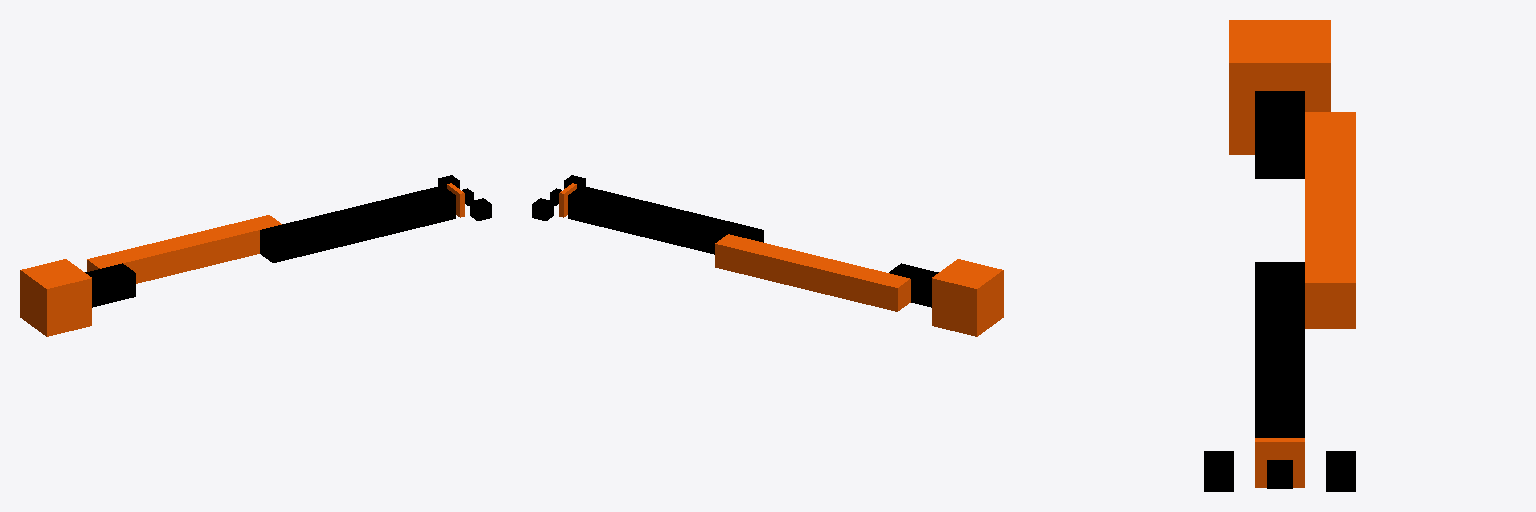
The robot description file, URDF, robot "my_robo":
<?xml version="1.0" ?>
<!-- =================================================================================== -->
<!-- |    This document was autogenerated by xacro from my_robo.xacro                  | -->
<!-- |    EDITING THIS FILE BY HAND IS NOT RECOMMENDED                                 | -->
<!-- =================================================================================== -->
<robot name="my_robo" xmlns:xacro="http://www.ros.org/wiki/xacro">
  <gazebo>
    <plugin filename="libgazebo_ros_control.so" name="gazebo_ros_control">
      <!--<robotNamespace>/my_robo</robotNamespace>
      -->
      <robotSimType>gazebo_ros_control/DefaultRobotHWSim</robotSimType>
    </plugin>
  </gazebo>
  <!-- Link1 -->
  <gazebo reference="link1">
    <mu1>0.2</mu1>
    <mu2>0.2</mu2>
    <material>Gazebo/Orange</material>
  </gazebo>
  <!-- Link2 -->
  <gazebo reference="link2">
    <mu1>0.2</mu1>
    <mu2>0.2</mu2>
    <material>Gazebo/Black</material>
  </gazebo>
  <!-- Link3 -->
  <gazebo reference="link3">
    <mu1>0.2</mu1>
    <mu2>0.2</mu2>
    <material>Gazebo/Orange</material>
  </gazebo>
  <!-- Link4 -->
  <gazebo reference="link4">
    <mu1>0.2</mu1>
    <mu2>0.2</mu2>
    <material>Gazebo/Black</material>
  </gazebo>
  <!-- Link5 -->
  <gazebo reference="link5">
    <mu1>0.2</mu1>
    <mu2>0.2</mu2>
    <material>Gazebo/Orange</material>
  </gazebo>
  <!-- Link6 -->
  <gazebo reference="link6">
    <mu1>0.2</mu1>
    <mu2>0.2</mu2>
    <material>Gazebo/Black</material>
  </gazebo>
  <gazebo reference="link_cam1">
    <material>gazebo/Black</material>
    <sensor name="camera1" type="camera">
      <update_rate>30.0</update_rate>
      <camera name="head1">
        <horizontal_fov>1.5708</horizontal_fov>
        <image>
          <width>800</width>
          <height>800</height>
          <format>R8G8B8</format>
        </image>
        <clip>
          <near>0.02</near>
          <far>300</far>
        </clip>
      </camera>
      <plugin filename="libgazebo_ros_camera.so" name="camera_camera_controller">
        <alwaysOn>true</alwaysOn>
        <updateRate>0.0</updateRate>
        <cameraName>my_robo/camera1</cameraName>
        <imageTopicName>image_raw</imageTopicName>
        <cameraInfoTopicName>camera_info</cameraInfoTopicName>
        <frameName>link_cam1</frameName>
        <hackBaseline>0.07</hackBaseline>
        <distortionK1>0.0</distortionK1>
        <distortionK2>0.0</distortionK2>
        <distortionK3>0.0</distortionK3>
        <distortionT1>0.0</distortionT1>
        <distortionT2>0.0</distortionT2>
      </plugin>
    </sensor>
  </gazebo>
  <gazebo reference="link_cam2">
    <material>gazebo/Red</material>
    <sensor name="camera2" type="camera">
      <update_rate>30.0</update_rate>
      <camera name="head2">
        <horizontal_fov>1.5708</horizontal_fov>
        <image>
          <width>800</width>
          <height>800</height>
          <format>R8G8B8</format>
        </image>
        <clip>
          <near>0.02</near>
          <far>300</far>
        </clip>
      </camera>
      <plugin filename="libgazebo_ros_camera.so" name="camera_camera_controller">
        <alwaysOn>true</alwaysOn>
        <updateRate>0.0</updateRate>
        <cameraName>my_robo/camera2</cameraName>
        <imageTopicName>image_raw</imageTopicName>
        <cameraInfoTopicName>camera_info</cameraInfoTopicName>
        <frameName>link_cam2</frameName>
        <hackBaseline>0.07</hackBaseline>
        <distortionK1>0.0</distortionK1>
        <distortionK2>0.0</distortionK2>
        <distortionK3>0.0</distortionK3>
        <distortionT1>0.0</distortionT1>
        <distortionT2>0.0</distortionT2>
      </plugin>
    </sensor>
  </gazebo>
   i
  
  <material name="black">
    <color rgba="0.0 0.0 0.0 1.0"/>
  </material>
  <material name="blue">
    <color rgba="0.0 0.0 0.8 1.0"/>
  </material>
  <material name="green">
    <color rgba="0.0 0.8 0.0 1.0"/>
  </material>
  <material name="grey">
    <color rgba="0.2 0.2 0.2 1.0"/>
  </material>
  <material name="orange">
    <color rgba="1.0 0.423529411765 0.0392156862745 1.0"/>
  </material>
  <material name="brown">
    <color rgba="0.870588235294 0.811764705882 0.764705882353 1.0"/>
  </material>
  <material name="red">
    <color rgba="0.8 0.0 0.0 1.0"/>
  </material>
  <material name="white">
    <color rgba="1.0 1.0 1.0 1.0"/>
  </material>
  <link name="world"/>
  <joint name="fixed" type="fixed">
    <origin rpy="0 0 0" xyz="0 0 1.7"/>
    <parent link="world"/>
    <child link="link1"/>
  </joint>
  <link name="link1">
    <collision>
      <origin rpy="0 0 0" xyz="0.05 0 0"/>
      <geometry>
        <box size="0.05 0.025 0.025"/>
      </geometry>
    </collision>
    <visual>
      <origin rpy="0 0 0" xyz="0.05 0 0"/>
      <geometry>
        <box size="0.1 0.1 0.1"/>
      </geometry>
      <material name="orange"/>
    </visual>
    <inertial>
      <origin rpy="0 0 0" xyz="0.05 0 0"/>
      <mass value="3.0"/>
      <inertia ixx="0.003125" ixy="0.0" ixz="0.0" iyy="0.00125" iyz="0.0" izz="0.003125"/>
    </inertial>
  </link>
  <joint name="joint1" type="continuous">
    <origin rpy="0 0 0" xyz="0.11 0 0"/>
    <parent link="link1"/>
    <child link="link2"/>
    <axis xyz="1 0 0"/>
    <dynamics damping="0.7"/>
  </joint>
  <link name="link2">
    <collision>
      <origin rpy="0 0 0" xyz="0.05 0 0"/>
      <geometry>
        <box size="0.05 0.05 0.05"/>
      </geometry>
    </collision>
    <visual>
      <origin rpy="0 0 0" xyz="0.05 0 0"/>
      <geometry>
        <box size="0.1 0.05 0.05"/>
      </geometry>
      <material name="black"/>
    </visual>
    <inertial>
      <origin rpy="0 0 0" xyz="0.05 0 0"/>
      <mass value="3.0"/>
      <inertia ixx="0.003125" ixy="0.0" ixz="0.0" iyy="0.00125" iyz="0.0" izz="0.003125"/>
    </inertial>
  </link>
  <joint name="joint2" type="continuous">
    <origin rpy="0 0 0" xyz="0.05 0.05 0"/>
    <parent link="link2"/>
    <child link="link3"/>
    <axis xyz="0 1 0"/>
    <dynamics damping="0.7"/>
  </joint>
  <link name="link3">
    <collision>
      <origin rpy="0 0 0" xyz="0.2 0 0"/>
      <geometry>
        <box size="0.2 0.05 0.05"/>
      </geometry>
    </collision>
    <visual>
      <origin rpy="0 0 0" xyz="0.2 0 0"/>
      <geometry>
        <box size="0.4 0.05 0.05"/>
      </geometry>
      <material name="orange"/>
    </visual>
    <inertial>
      <origin rpy="0 0 0" xyz="0.2 0 0"/>
      <mass value="3.0"/>
      <inertia ixx="0.040625" ixy="0.0" ixz="0.0" iyy="0.00125" iyz="0.0" izz="0.040625"/>
    </inertial>
  </link>
  <joint name="joint3" type="continuous">
    <origin rpy="0 0 0" xyz="0.35 -0.05 0"/>
    <parent link="link3"/>
    <child link="link4"/>
    <axis xyz="0 1 0"/>
    <dynamics damping="0.7"/>
  </joint>
  <link name="link4">
    <collision>
      <origin rpy="0 0 0" xyz="0.2 0 0"/>
      <geometry>
        <box size="0.2 0.05 0.05"/>
      </geometry>
    </collision>
    <visual>
      <origin rpy="0 0 0" xyz="0.2 0 0"/>
      <geometry>
        <box size="0.4 0.05 0.05"/>
      </geometry>
      <material name="black"/>
    </visual>
    <inertial>
      <origin rpy="0 0 0" xyz="0.2 0 0"/>
      <mass value="3.0"/>
      <inertia ixx="0.040625" ixy="0.0" ixz="0.0" iyy="0.00125" iyz="0.0" izz="0.040625"/>
    </inertial>
  </link>
  <joint name="joint4" type="continuous">
    <origin rpy="0 0 0" xyz="0.41 0 0"/>
    <parent link="link4"/>
    <child link="link5"/>
    <axis xyz="1 0 0"/>
    <dynamics damping="0.7"/>
  </joint>
  <link name="link5">
    <collision>
      <origin rpy="0 0 0" xyz="0.005 0 0"/>
      <geometry>
        <box size="0.005 0.05 0.05"/>
      </geometry>
    </collision>
    <visual>
      <origin rpy="0 0 0" xyz="0.005 0 0"/>
      <geometry>
        <box size="0.01 0.05 0.05"/>
      </geometry>
      <material name="orange"/>
    </visual>
    <inertial>
      <origin rpy="0 0 0" xyz="0.005 0 0"/>
      <mass value="3.0"/>
      <inertia ixx="0.00065" ixy="0.0" ixz="0.0" iyy="0.00125" iyz="0.0" izz="0.00065"/>
    </inertial>
  </link>
  <joint name="joint5" type="fixed">
    <origin rpy="0 0 0" xyz="0.02 0 0"/>
    <parent link="link5"/>
    <child link="link6"/>
  </joint>
  <link name="link6">
    <collision>
      <origin rpy="0 0 0" xyz="0.0125 0 0"/>
      <geometry>
        <box size="0.0125 0.025 0.025"/>
      </geometry>
    </collision>
    <visual>
      <origin rpy="0 0 0" xyz="0.0125 0 0"/>
      <geometry>
        <box size="0.0125 0.025 0.025"/>
      </geometry>
      <material name="black"/>
    </visual>
    <inertial>
      <origin rpy="0 0 0" xyz="0.0125 0 0"/>
      <mass value="3.0"/>
      <inertia ixx="0.00078125" ixy="0.0" ixz="0.0" iyy="0.00125" iyz="0.0" izz="0.00078125"/>
    </inertial>
  </link>
  <joint name="cam_joint1" type="fixed">
    <origin xyz="0.025 0.03 0"/>
    <parent link="link5"/>
    <child link="link_cam1"/>
  </joint>
  <link name="link_cam1">
    <collision>
      <origin xyz="0 0.03 0"/>
      <geometry>
        <box size="0.03 0.03 0.03"/>
      </geometry>
    </collision>
    <visual>
      <origin rpy="0 0 0" xyz="0 0.03 0"/>
      <geometry>
        <box size="0.03 0.03 0.03"/>
      </geometry>
      <material name="black"/>
    </visual>
    <inertial>
      <mass value="0.001"/>
      <origin rpy="0 0 0" xyz="0 0.03 0"/>
      <inertia ixx="0.0001" ixy="0" ixz="0" iyy="0.0001" iyz="0" izz="0.0001"/>
    </inertial>
  </link>
  <joint name="cam_joint2" type="fixed">
    <origin xyz="0.025 -0.03 0"/>
    <parent link="link5"/>
    <child link="link_cam2"/>
  </joint>
  <link name="link_cam2">
    <collision>
      <origin xyz="0 -0.03 0"/>
      <geometry>
        <box size="0.03 0.03 0.03"/>
      </geometry>
    </collision>
    <visual>
      <origin rpy="0 0 0" xyz="0 -0.03 0"/>
      <geometry>
        <box size="0.03 0.03 0.03"/>
      </geometry>
      <material name="black"/>
    </visual>
    <inertial>
      <mass value="0.001"/>
      <origin rpy="0 0 0" xyz="0 -0.03 0"/>
      <inertia ixx="0.0001" ixy="0" ixz="0" iyy="0.0001" iyz="0" izz="0.0001"/>
    </inertial>
  </link>
  <!--
  <transmission name="tran1">
    <type>transmission_interface/SimpleTransmission</type>
    <joint name="joint1">
      <hardwareInterface>hardware_interface/PositionJointInterface</hardwareInterface>
    </joint>
    <actuator name="motor1">
      <hardwareInterface>hardware_interface/PositionJointInterface</hardwareInterface>
      <mechanicalReduction>1</mechanicalReduction>
    </actuator>
  </transmission>
 
  <transmission name="tran2">
    <type>transmission_interface/SimpleTransmission</type>
    <joint name="joint2">
      <hardwareInterface>hardware_interface/PositionJointInterface</hardwareInterface>
    </joint>
    <actuator name="motor2">
      <hardwareInterface>hardware_interface/PositionJointInterface</hardwareInterface>
      <mechanicalReduction>1</mechanicalReduction>
    </actuator>
  </transmission>

  <transmission name="tran3">
    <type>transmission_interface/SimpleTransmission</type>
    <joint name="joint3">
      <hardwareInterface>hardware_interface/PositionJointInterface</hardwareInterface>
    </joint>
    <actuator name="motor3">
      <hardwareInterface>hardware_interface/PositionJointInterface</hardwareInterface>
      <mechanicalReduction>1</mechanicalReduction>
    </actuator>
  </transmission>

  <transmission name="tran4">
    <type>transmission_interface/SimpleTransmission</type>
    <joint name="joint4">
      <hardwareInterface>hardware_interface/PositionJointInterface</hardwareInterface>
    </joint>
    <actuator name="motor4">
      <hardwareInterface>hardware_interface/PositionJointInterface</hardwareInterface>
      <mechanicalReduction>1</mechanicalReduction>
    </actuator>
  </transmission>
-->
  <transmission name="tran1">
    <type>transmission_interface/SimpleTransmission</type>
    <joint name="joint1">
      <hardwareInterface>hardware_interface/VelocityJointInterface</hardwareInterface>
    </joint>
    <actuator name="motor1">
      <hardwareInterface>hardware_interface/VelocityJointInterface</hardwareInterface>
      <mechanicalReduction>1</mechanicalReduction>
    </actuator>
  </transmission>
  <transmission name="tran2">
    <type>transmission_interface/SimpleTransmission</type>
    <joint name="joint2">
      <hardwareInterface>hardware_interface/VelocityJointInterface</hardwareInterface>
    </joint>
    <actuator name="motor2">
      <hardwareInterface>hardware_interface/VelocityJointInterface</hardwareInterface>
      <mechanicalReduction>1</mechanicalReduction>
    </actuator>
  </transmission>
  <transmission name="tran3">
    <type>transmission_interface/SimpleTransmission</type>
    <joint name="joint3">
      <hardwareInterface>hardware_interface/VelocityJointInterface</hardwareInterface>
    </joint>
    <actuator name="motor3">
      <hardwareInterface>hardware_interface/VelocityJointInterface</hardwareInterface>
      <mechanicalReduction>1</mechanicalReduction>
    </actuator>
  </transmission>
  <transmission name="tran4">
    <type>transmission_interface/SimpleTransmission</type>
    <joint name="joint4">
      <hardwareInterface>hardware_interface/VelocityJointInterface</hardwareInterface>
    </joint>
    <actuator name="motor4">
      <hardwareInterface>hardware_interface/VelocityJointInterface</hardwareInterface>
      <mechanicalReduction>1</mechanicalReduction>
    </actuator>
  </transmission>
</robot>

--- Render facts (derived) ---
Views: 3 orthographic renders of the robot side by side, from view 1: azimuth 30°, elevation 25°; view 2: azimuth 150°, elevation 25°; view 3: azimuth 270°, elevation 25°.
Robot: my_robo — 9 links, 8 joints (4 continuous, 4 fixed); root link world; default pose: every joint at zero.
Visible links, largest first — view 1: link4, link3, link1, link2; view 2: link3, link4, link1, link2; view 3: link3, link1, link4, link2, link5, link_cam1, link_cam2, link6.
Boxes of the visible links, x1,y1,x2,y2 form: link4: (260, 186, 455, 262); link3: (87, 215, 281, 283); link1: (20, 259, 91, 336); link2: (85, 263, 135, 307); link3: (715, 234, 910, 311); link4: (568, 186, 763, 254); link1: (932, 259, 1003, 336); link2: (889, 263, 938, 307); link3: (1305, 112, 1355, 328); link1: (1229, 20, 1330, 154); link4: (1255, 262, 1304, 437); link2: (1255, 91, 1304, 178); link5: (1255, 438, 1304, 487); link_cam1: (1326, 451, 1355, 491); link_cam2: (1204, 451, 1233, 491); link6: (1267, 460, 1292, 488).
Bounding box of the posed robot: 0.96 × 0.15 × 0.1 m (x, y, z).
Geometry: primitives only (box / cylinder / sphere), no mesh files.
